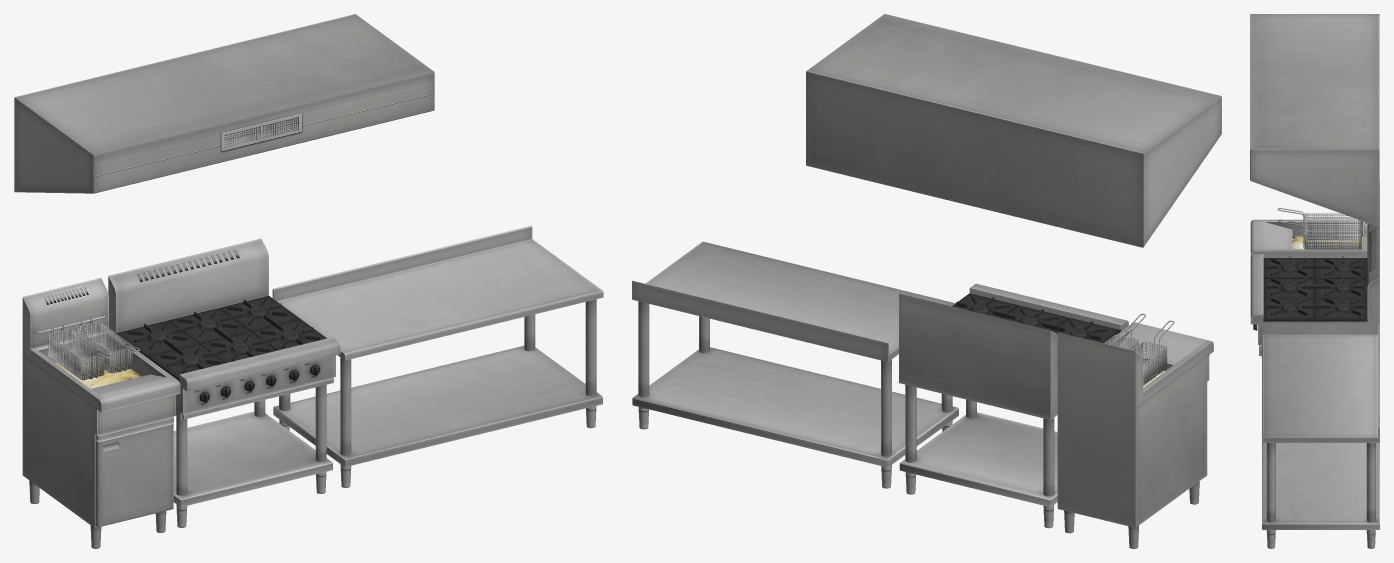
The model's file is commercialkitchenpack1.FBX.
The picture shows the model from 3 angles, left to right: view 1: azimuth 30°, elevation 25°; view 2: azimuth 150°, elevation 25°; view 3: azimuth 270°, elevation 25°; orthographic projection. The views are drawn at different scales.
Parts seen in each view (by area): view 1: commercialkitchnepack1_bench, commercialkitchenpack1_exhaust, commercialkitchnepack1_6burner, commercialkitchnepack1_deepfryer, commercialkitchnepack1_deepfryer_basket1, commercialkitchnepack1_deepfryer_basket2; view 2: commercialkitchenpack1_exhaust, commercialkitchnepack1_bench, commercialkitchnepack1_6burner, commercialkitchnepack1_deepfryer, commercialkitchnepack1_deepfryer_basket1; view 3: commercialkitchenpack1_exhaust, commercialkitchnepack1_bench, commercialkitchnepack1_6burner, commercialkitchnepack1_deepfryer, commercialkitchnepack1_deepfryer_basket2, commercialkitchnepack1_deepfryer_basket1.
Part boxes in pixels (x1,y1,x2,y2): commercialkitchnepack1_bench: (272,225,603,487); commercialkitchenpack1_exhaust: (14,14,434,193); commercialkitchnepack1_6burner: (108,238,340,527); commercialkitchnepack1_deepfryer: (22,277,180,548); commercialkitchnepack1_deepfryer_basket1: (48,325,111,380); commercialkitchnepack1_deepfryer_basket2: (76,318,140,373); commercialkitchenpack1_exhaust: (806,14,1221,247); commercialkitchnepack1_bench: (632,241,958,488); commercialkitchnepack1_6burner: (899,283,1128,528); commercialkitchnepack1_deepfryer: (1057,322,1213,548); commercialkitchnepack1_deepfryer_basket1: (1132,320,1174,385); commercialkitchenpack1_exhaust: (1250,14,1379,226); commercialkitchnepack1_bench: (1262,324,1379,548); commercialkitchnepack1_6burner: (1250,223,1379,421); commercialkitchnepack1_deepfryer: (1250,182,1379,358); commercialkitchnepack1_deepfryer_basket2: (1277,219,1366,249); commercialkitchnepack1_deepfryer_basket1: (1277,208,1366,239).
Bounding box in the file's own units: 3 × 2.25 × 0.8004.
